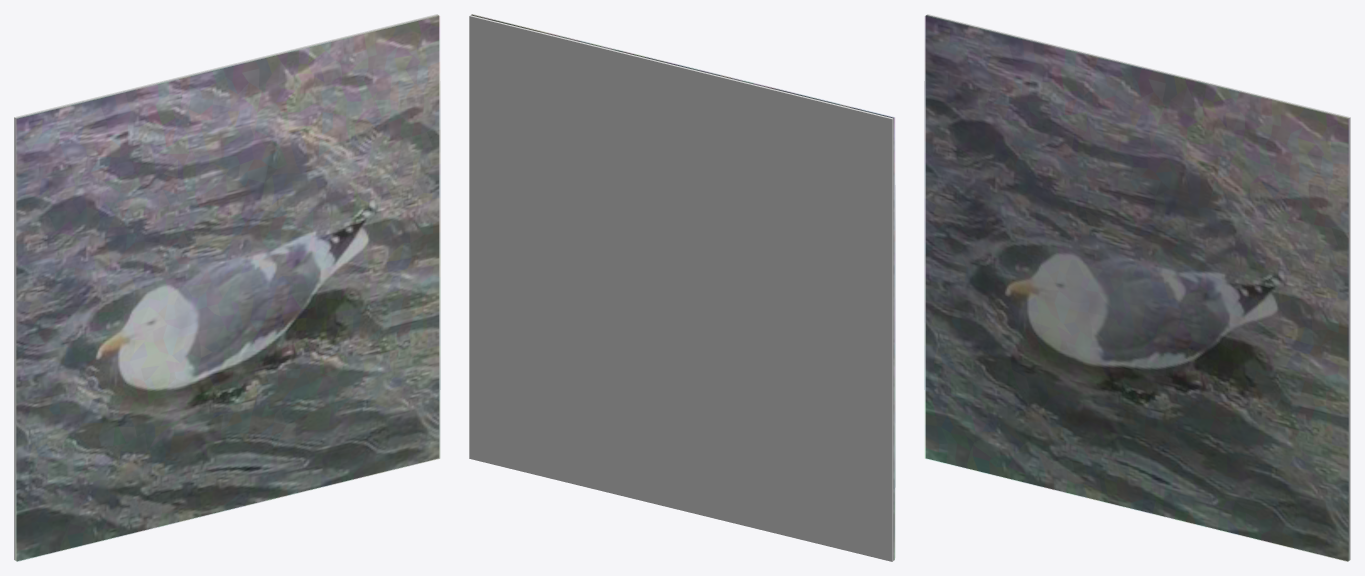
Rendered from sikaku_daidai_holo.glb.
The picture shows the model from 3 angles, left to right: view 1: azimuth 30°, elevation 25°; view 2: azimuth 150°, elevation 25°; view 3: azimuth 330°, elevation 25°; orthographic projection.
Parts seen in each view (by area): view 1: 平面.001, PHOTO_PLANE, 平面.002; view 2: 平面.002, PHOTO_PLANE, 平面.001; view 3: 平面.001, PHOTO_PLANE, 平面.002.
Part boxes in pixels (bbox=[...]): 平面.001: bbox=[15, 15, 440, 561]; PHOTO_PLANE: bbox=[16, 15, 439, 561]; 平面.002: bbox=[14, 14, 438, 560]; 平面.002: bbox=[469, 15, 893, 561]; PHOTO_PLANE: bbox=[471, 14, 894, 559]; 平面.001: bbox=[471, 14, 895, 559]; 平面.001: bbox=[924, 15, 1349, 561]; PHOTO_PLANE: bbox=[925, 15, 1348, 561]; 平面.002: bbox=[926, 14, 1350, 560].
Bounding box in the file's own units: 2 × 2 × 0.0897.
3 materials, 2 textured.
